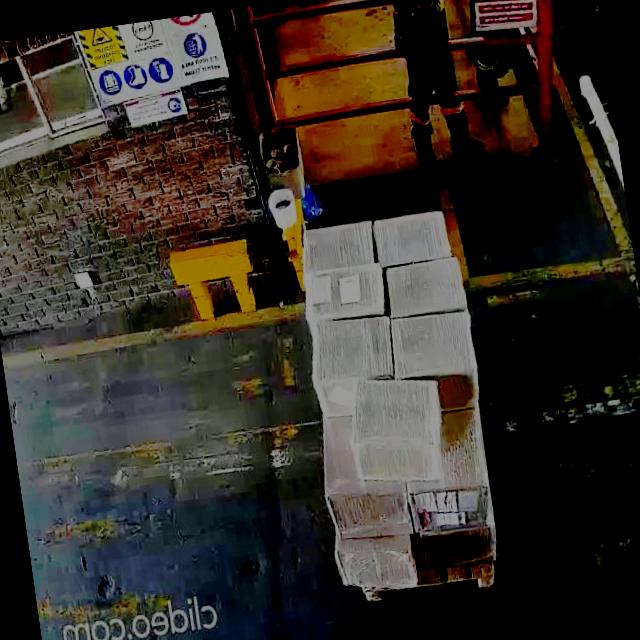Box: (340, 379, 458, 486), (305, 313, 396, 390), (390, 306, 479, 384), (382, 258, 468, 318), (410, 472, 495, 532), (326, 476, 411, 536), (376, 208, 454, 270), (304, 265, 388, 322), (298, 217, 380, 273), (338, 536, 415, 590), (418, 524, 501, 570)
